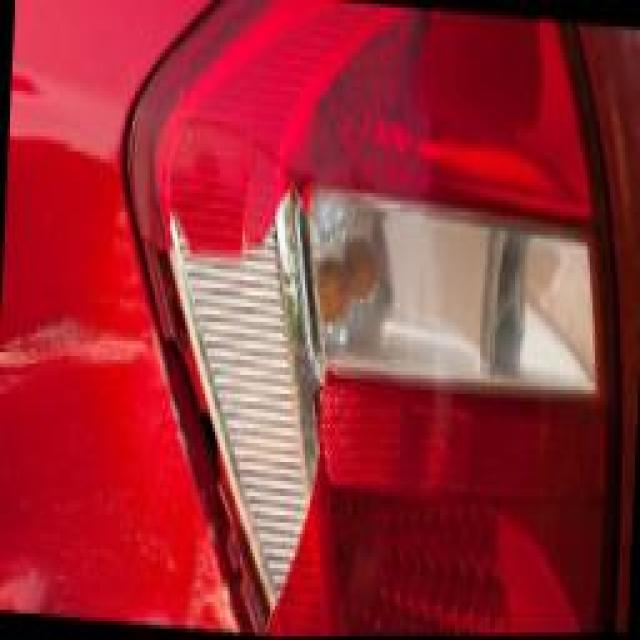Light: (116, 151, 359, 633)
